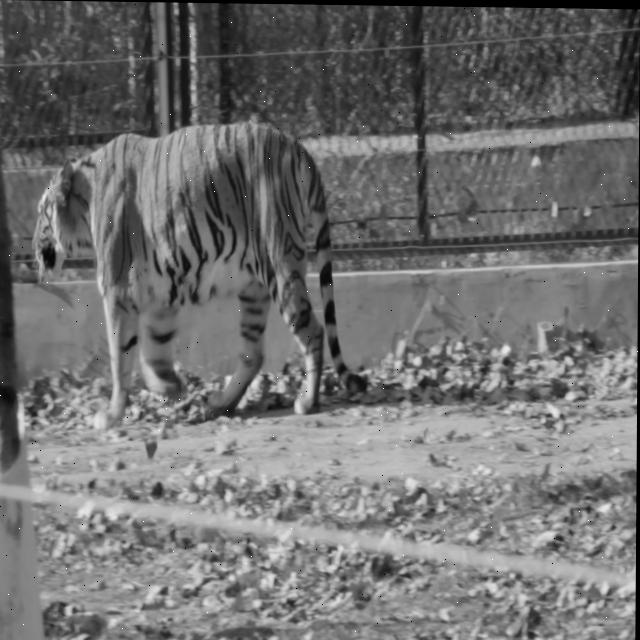Tiger: (30, 116, 370, 435)
